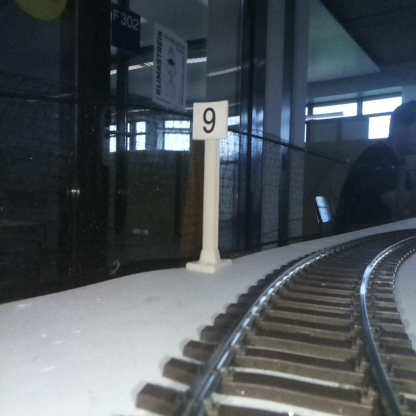white-info-9: (193, 100, 227, 268)
